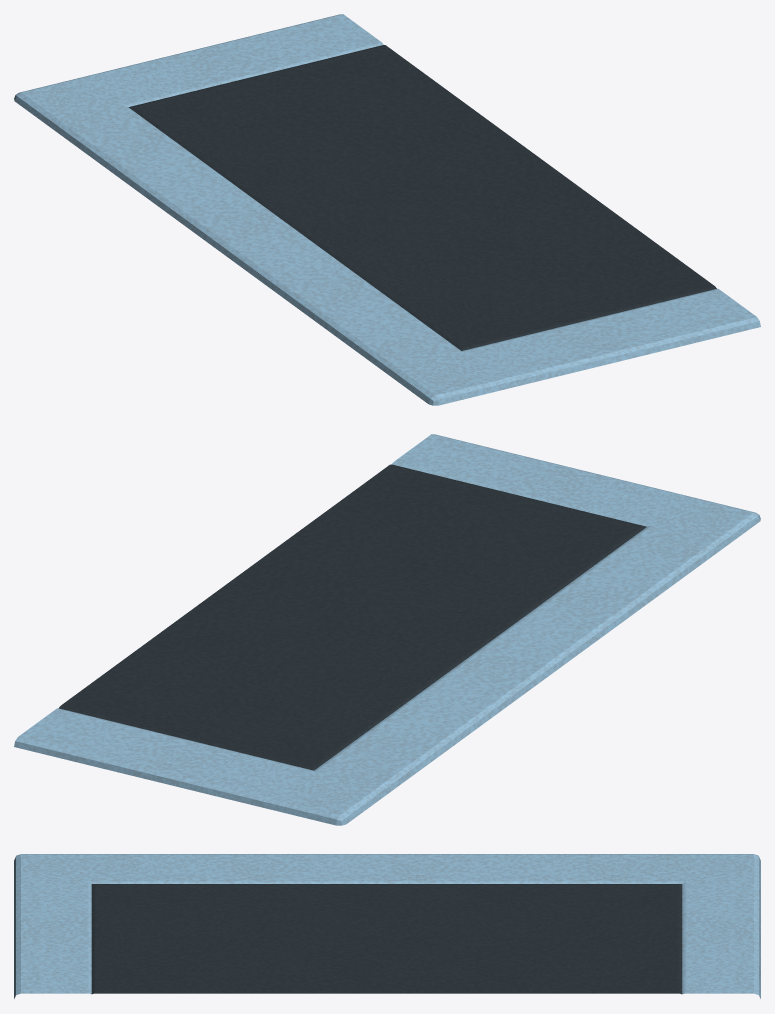
The model's file is AlfombraFin.fbx.
3 renders of one model, top to bottom at view 1: azimuth 30°, elevation 25°; view 2: azimuth 150°, elevation 25°; view 3: azimuth 270°, elevation 25°, orthographic. The views are drawn at different scales.
Parts seen in each view (by area): view 1: Alfombrafin; view 2: Alfombrafin; view 3: Alfombrafin.
Part boxes in pixels (<box>): Alfombrafin: <box>14,14,760,405</box>; Alfombrafin: <box>14,434,760,825</box>; Alfombrafin: <box>14,854,760,998</box>.
Bounding box in the file's own units: 180 × 3.74 × 400.
